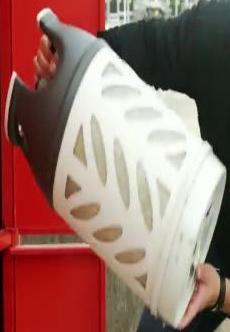cylinder: (1, 1, 230, 332)
